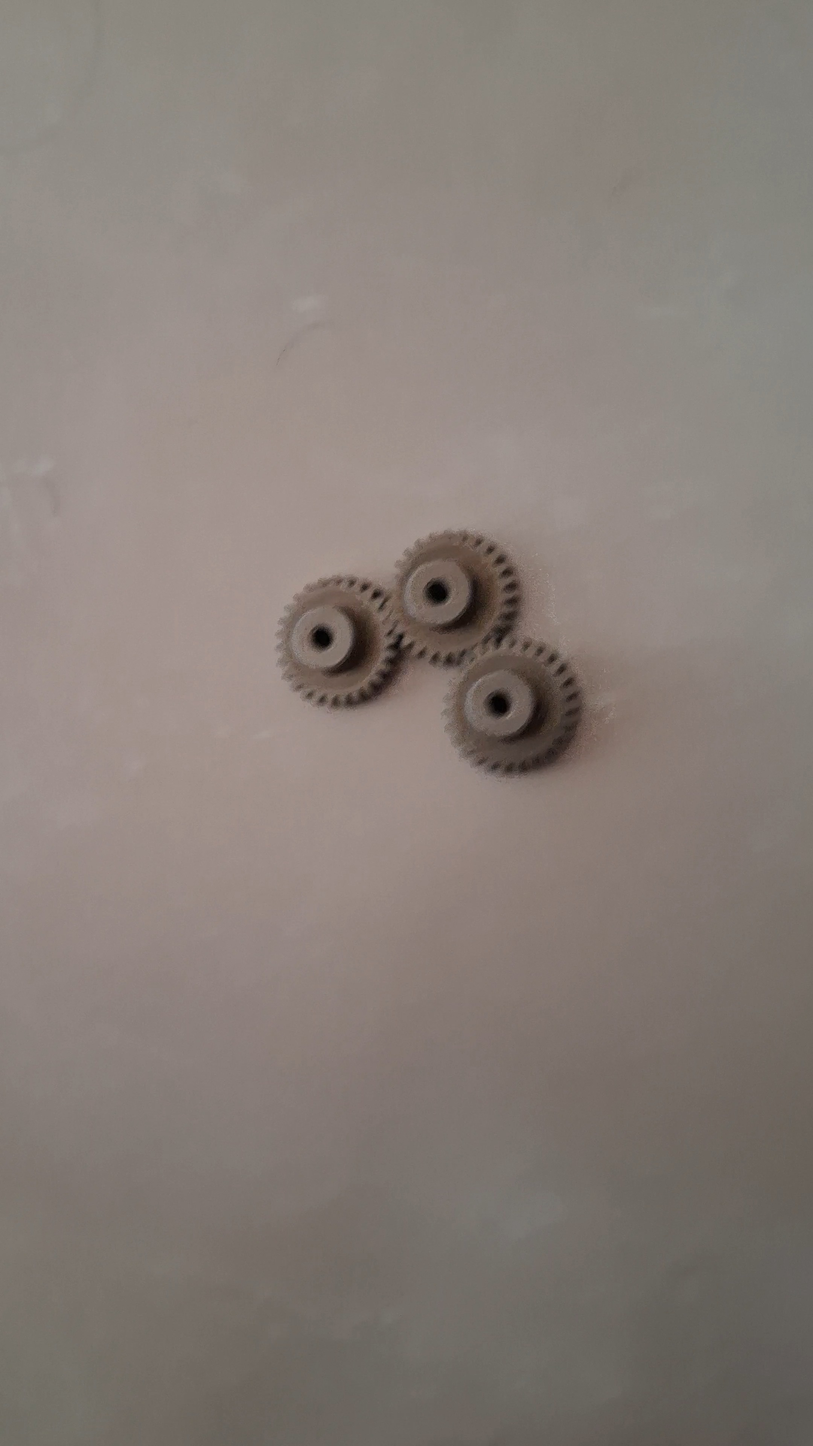spur gear: (445, 636, 582, 773), (393, 531, 518, 665), (278, 577, 399, 706)
